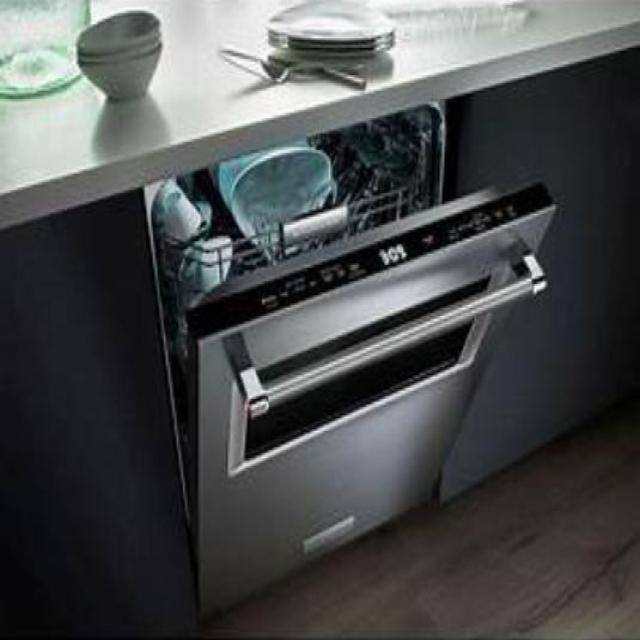dishwasher: (141, 102, 552, 615)
